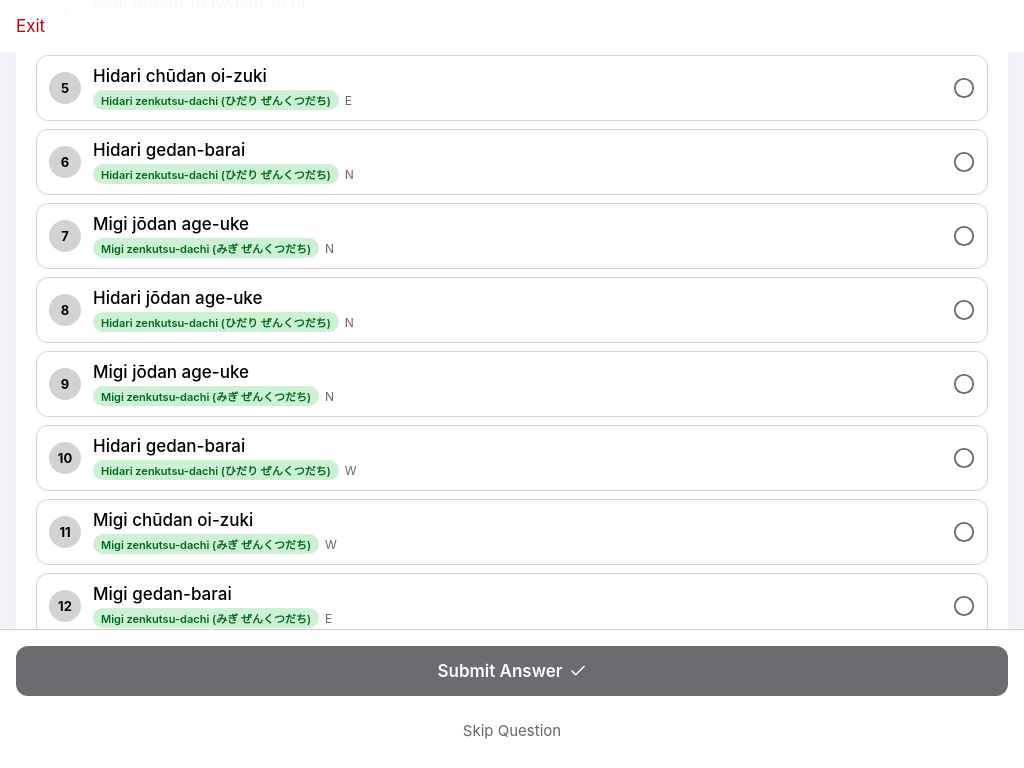
Scenario: QuizPlayScreen › shows the correct kiai moves after a wrong answer
(page scrolled)
Click the button "9 Migi jōdan age-uke Migi zenkutsu-dachi (みぎ ぜんくつだち) N". click: (65, 384)
box: [36, 351, 988, 417]
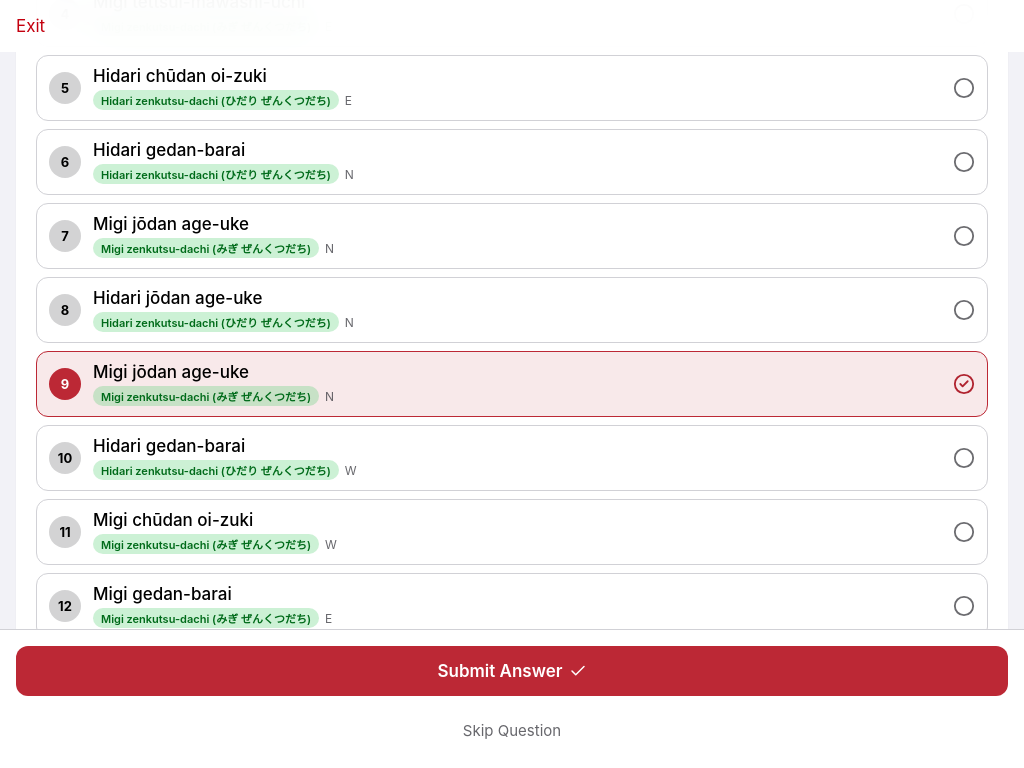
Click the button "Submit Answer". click: (512, 671)
box: [16, 646, 1008, 696]
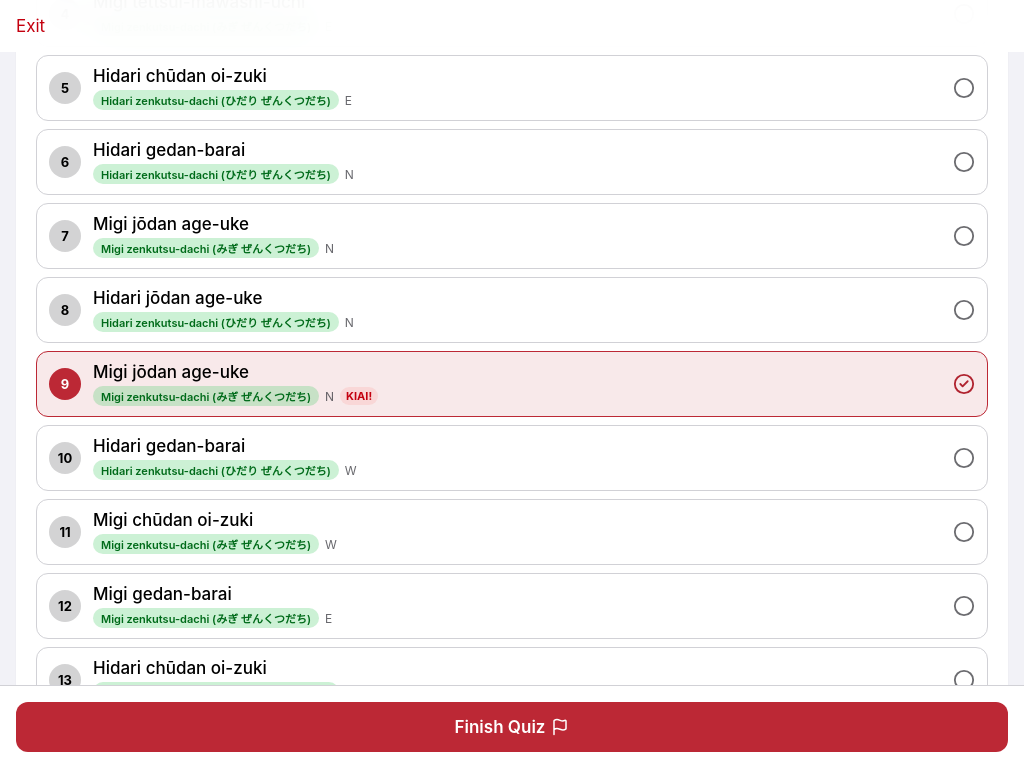
Now the button "Finish Quiz" is shown, box [16, 702, 1008, 752]
